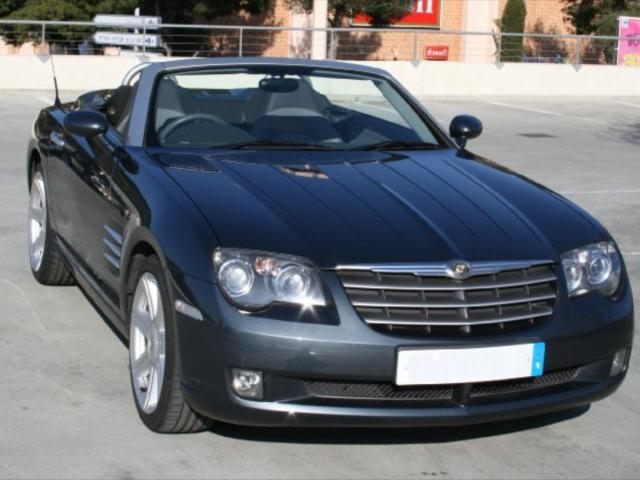Car: (2, 31, 640, 461)
